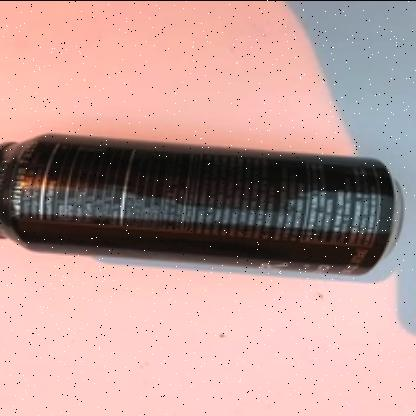Can: (0, 131, 408, 275)
